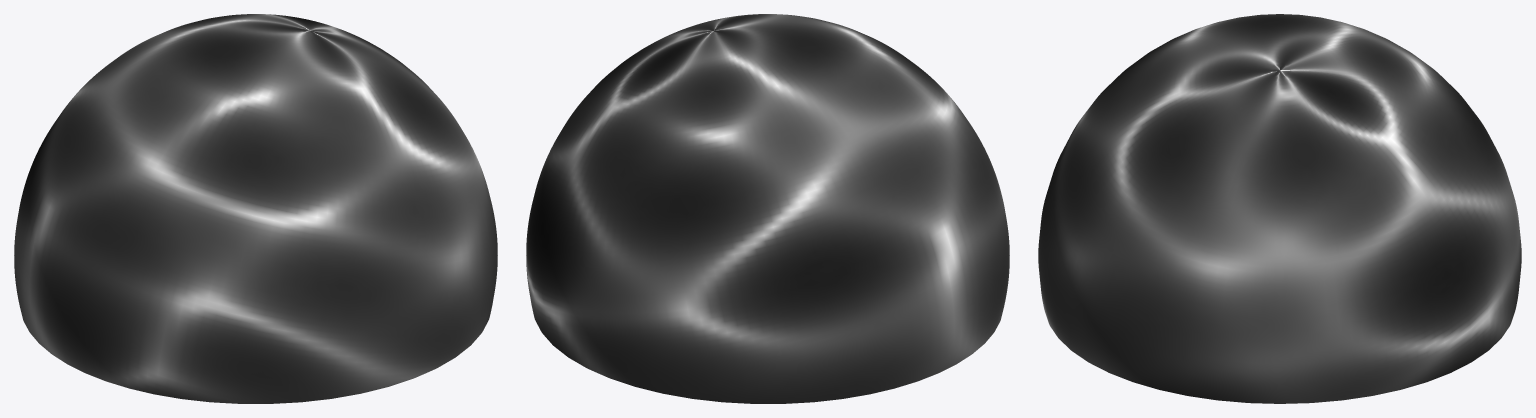
The model's file is eff_Dome01.fbx.
The picture shows the model from 3 angles, left to right: view 1: azimuth 30°, elevation 25°; view 2: azimuth 150°, elevation 25°; view 3: azimuth 270°, elevation 25°; orthographic projection.
Parts seen in each view (by area): view 1: eff_Dome01_rear_msh, eff_Dome01_front_msh; view 2: eff_Dome01_front_msh, eff_Dome01_rear_msh; view 3: eff_Dome01_front_msh, eff_Dome01_rear_msh.
Boxes of the visible parts, x1=… form: eff_Dome01_rear_msh: x1=46, y1=30, x2=497, y2=403; eff_Dome01_front_msh: x1=14, y1=14, x2=388, y2=353; eff_Dome01_front_msh: x1=526, y1=30, x2=977, y2=403; eff_Dome01_rear_msh: x1=635, y1=14, x2=1009, y2=353; eff_Dome01_front_msh: x1=1280, y1=14, x2=1521, y2=403; eff_Dome01_rear_msh: x1=1038, y1=14, x2=1279, y2=403.
Bounding box in the file's own units: 9 × 5.5 × 9.
